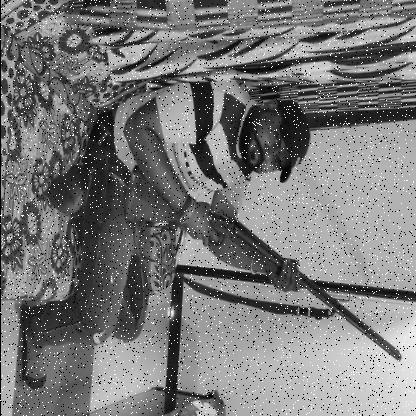rifle: (120, 162, 402, 364)
